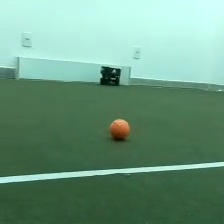ball: (106, 116, 133, 142)
goal: (12, 54, 132, 87)
robot: (98, 63, 122, 88)
